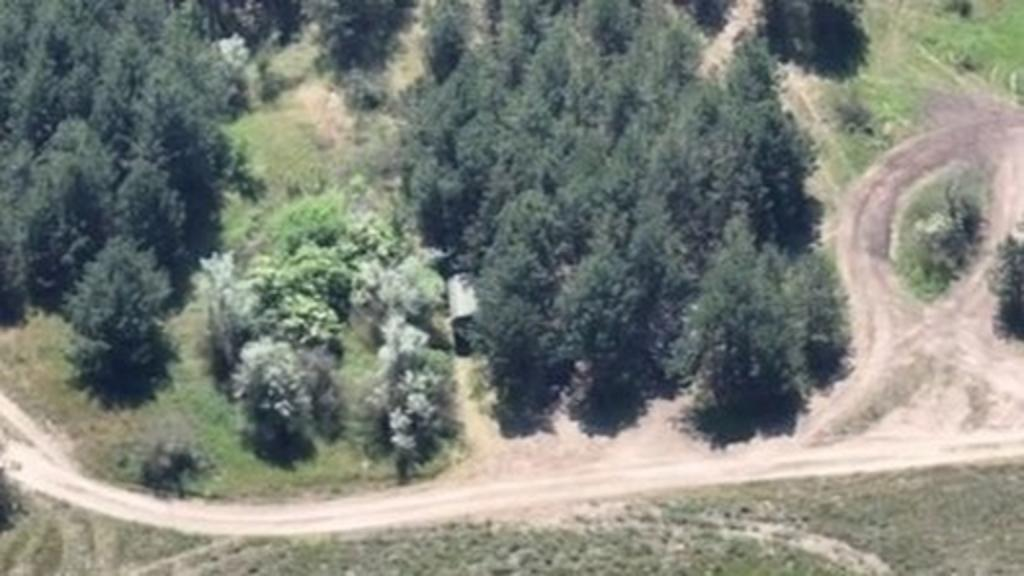TRUCK: (440, 242, 490, 342)
